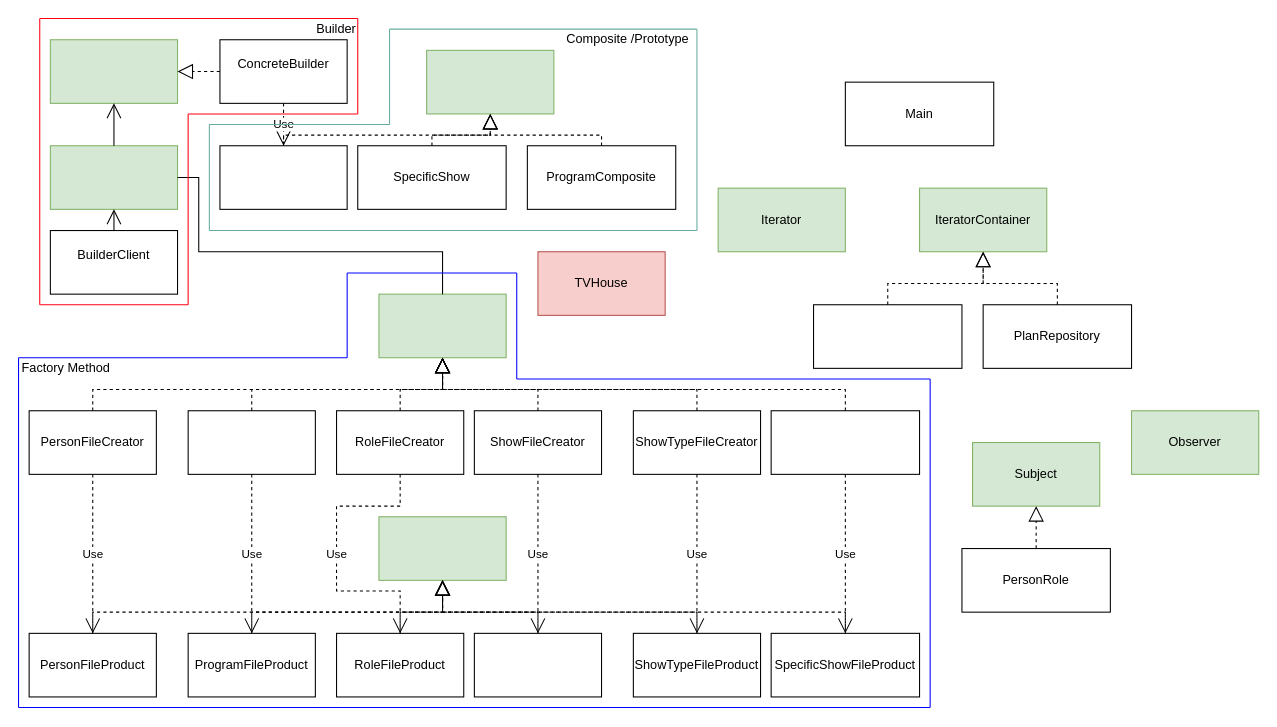
Some shapes in this 1277 by 727 pixel diagram are drawn without their labels. The shapes that lost their labels are listed below. From the top down, each one's centre as x and y in pixels, then its label:
the point at 113,71: PlanBuilder
the point at 490,81: PlanComponent
the point at 113,177: PlanDirector
the point at 283,177: DayComposite
the point at 442,325: FileCreator
the point at 887,336: ShowTypeRepository
the point at 251,442: ProgramFileCreator
the point at 845,442: SpecificShowFileCreator
the point at 442,548: FileProduct
the point at 537,664: ShowFileProduct
